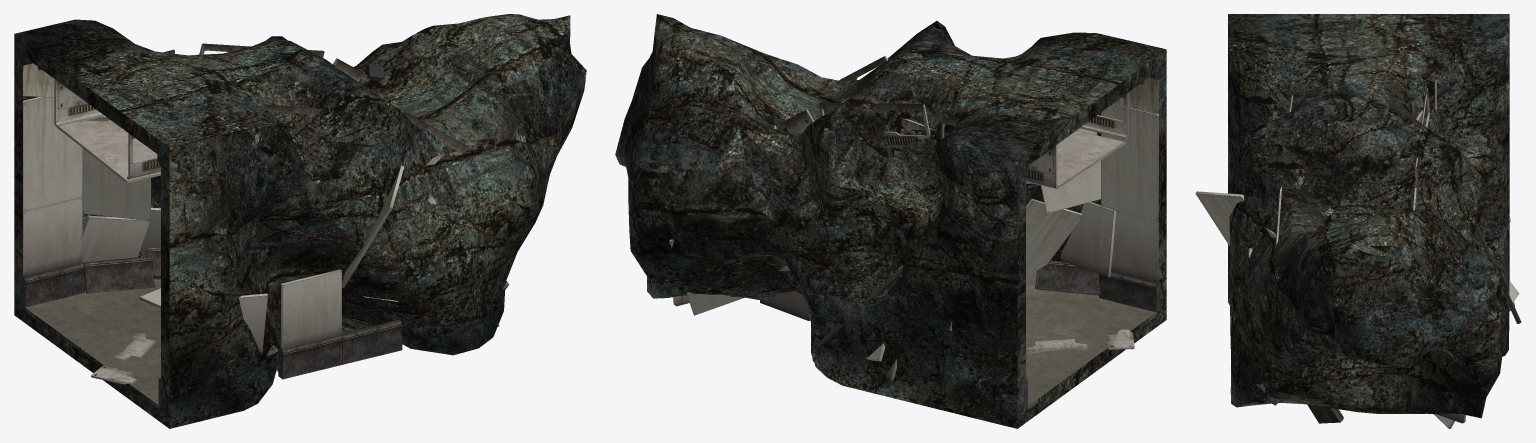
Rendered from 02_06_corridor_cave_in.dae.
3 views of the same model, side by side, from view 1: azimuth 30°, elevation 25°; view 2: azimuth 150°, elevation 25°; view 3: azimuth 270°, elevation 25° (orthographic). The views are drawn at different scales.
Parts seen in each view (by area): view 1: rock, walls, floor, ceiling; view 2: rock, walls, floor, ceiling; view 3: rock, walls, ceiling.
Part boxes in pixels (x1,y1,x2,y2): rock: (14,14,586,428); walls: (19,53,508,407); floor: (25,279,499,408); ceiling: (54,43,470,384); rock: (615,14,1166,428); walls: (669,68,1161,408); floor: (1026,280,1157,408); ceiling: (778,55,1134,353); rock: (1228,14,1509,418); walls: (1195,79,1521,428); ceiling: (1275,80,1436,247).
Size of the model in its own units: 8.43 by 4.63 by 5.21.
